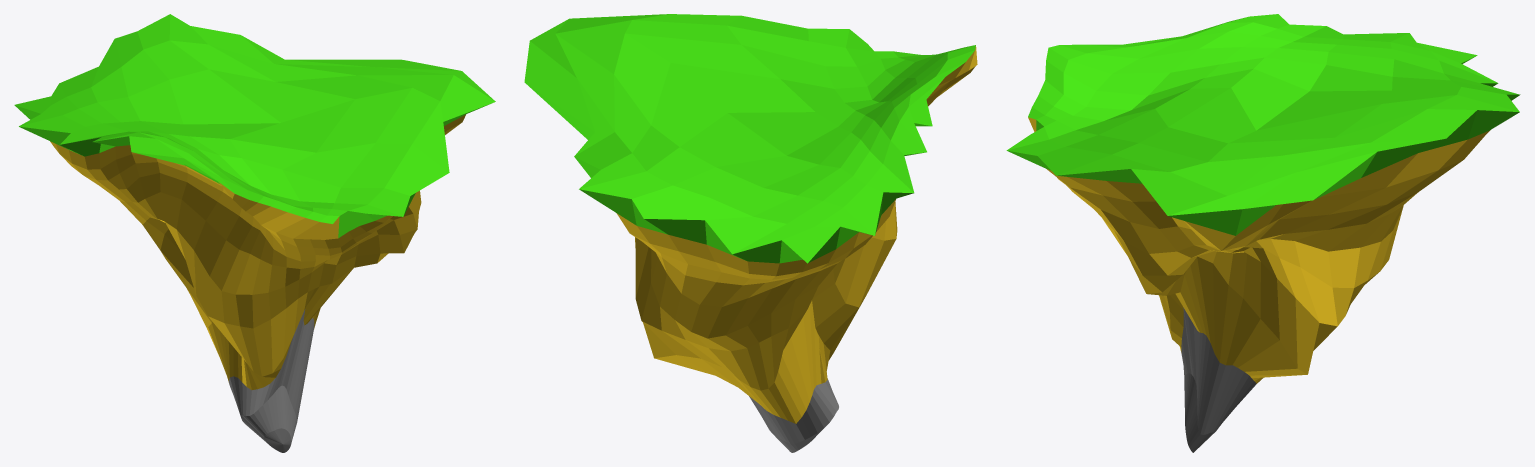
File: floating_island_small.glb
3 views of the same model, side by side, from view 1: azimuth 30°, elevation 25°; view 2: azimuth 150°, elevation 25°; view 3: azimuth 270°, elevation 25° (orthographic). The views are drawn at different scales.
Visible parts, largest first — view 1: floating island-col; view 2: floating island-col; view 3: floating island-col.
Part boxes in pixels (x1,y1,x2,y2): floating island-col: (14, 14, 495, 452); floating island-col: (524, 14, 977, 452); floating island-col: (1006, 14, 1520, 452).
Bounding box in the file's own units: 1.72 × 1.47 × 1.86.
